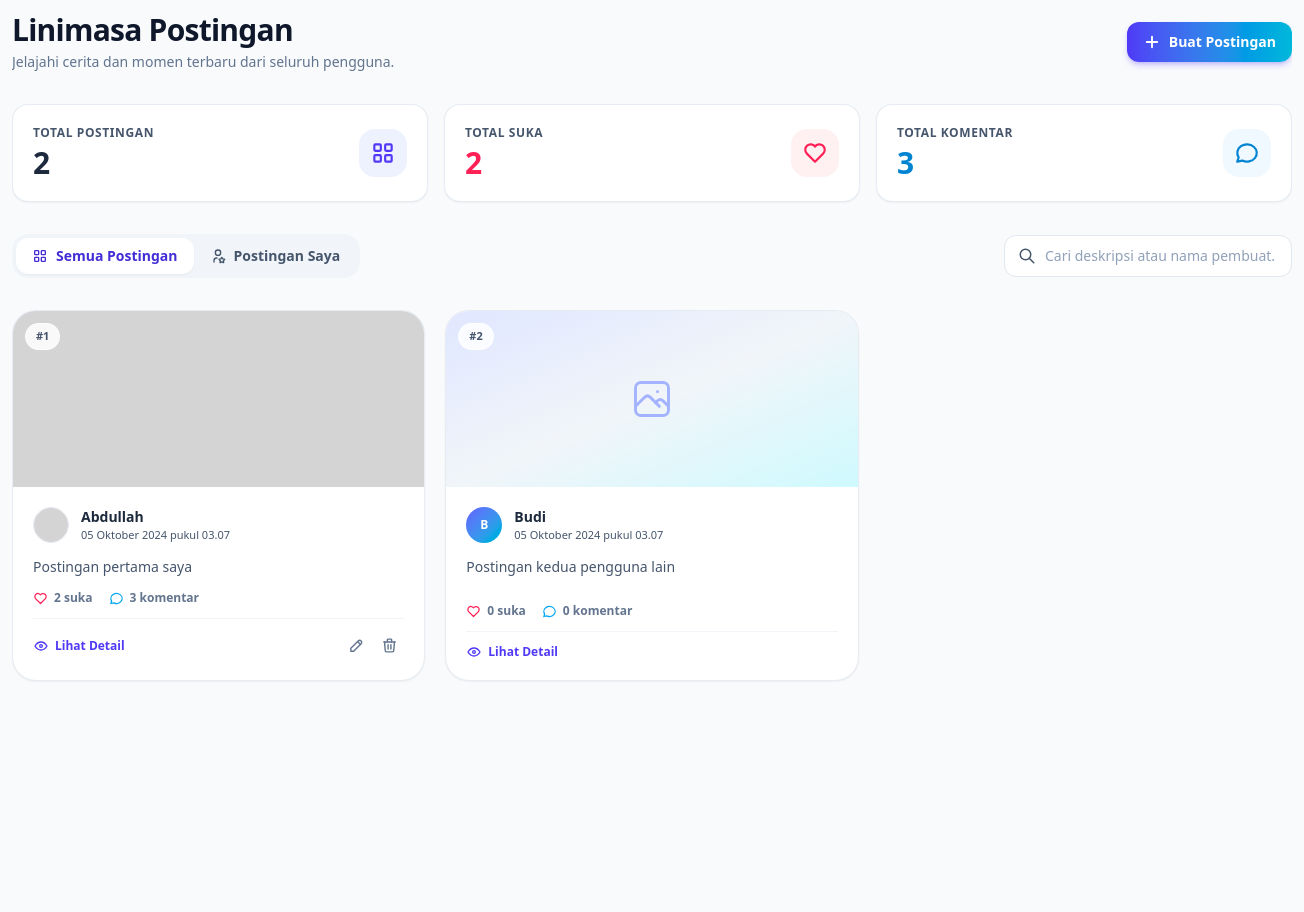
Test: HomePage › should filter posts with live search on description and author
The image size is (1304, 912).
Type "kedua" into the field with test id "search-post-input".
click(1148, 256); type("kedua")  # box top-left (1004, 235), bottom-right (1292, 277)
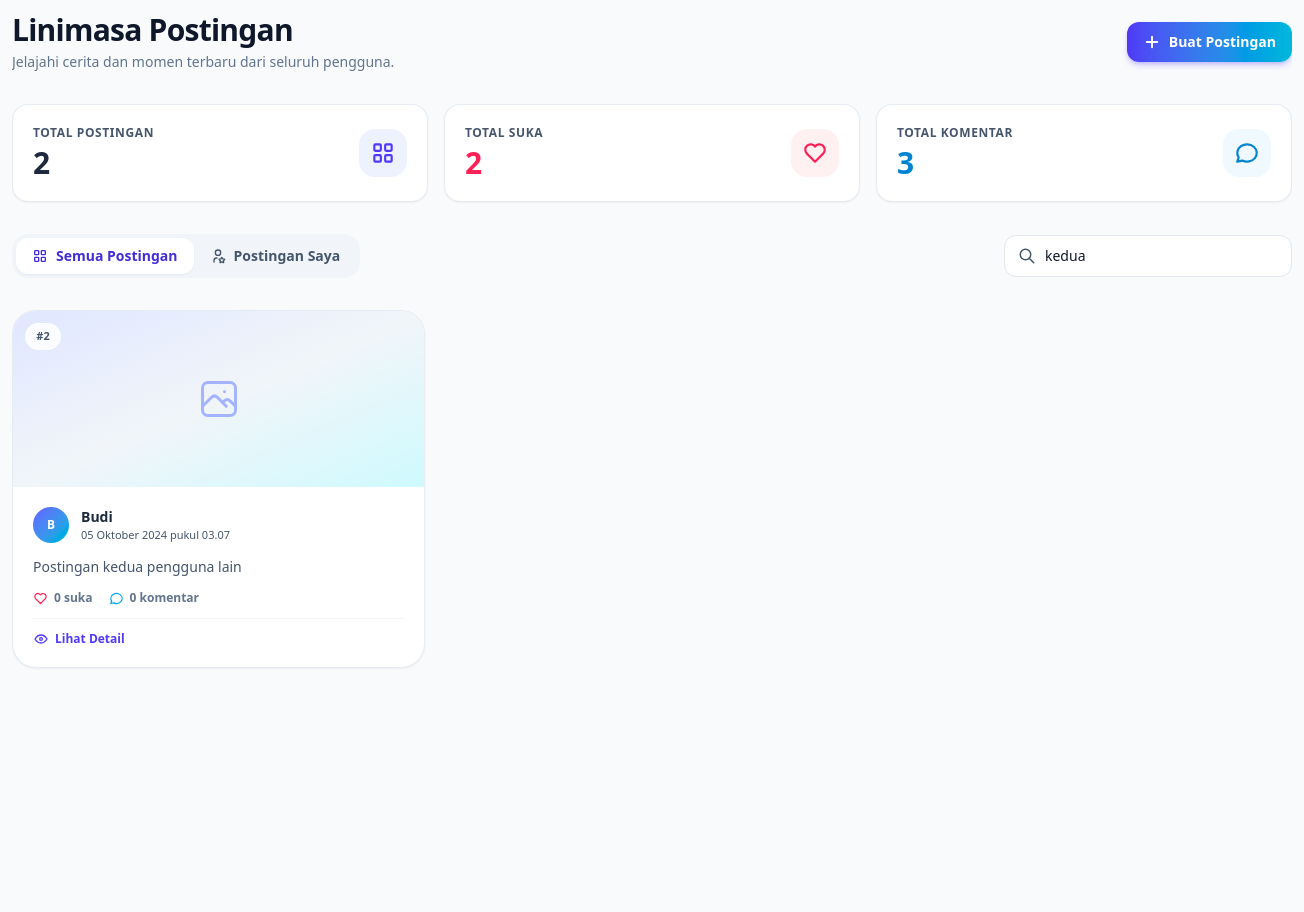
Check: the text "Postingan kedua pengguna lain" is shown, box top-left (33, 556), bottom-right (242, 576)
Check: the text "Postingan pertama saya" is gone
Replace the text in the field with test id "search-post-input" with "abdullah" at (1148, 256), box top-left (1004, 235), bottom-right (1292, 277)
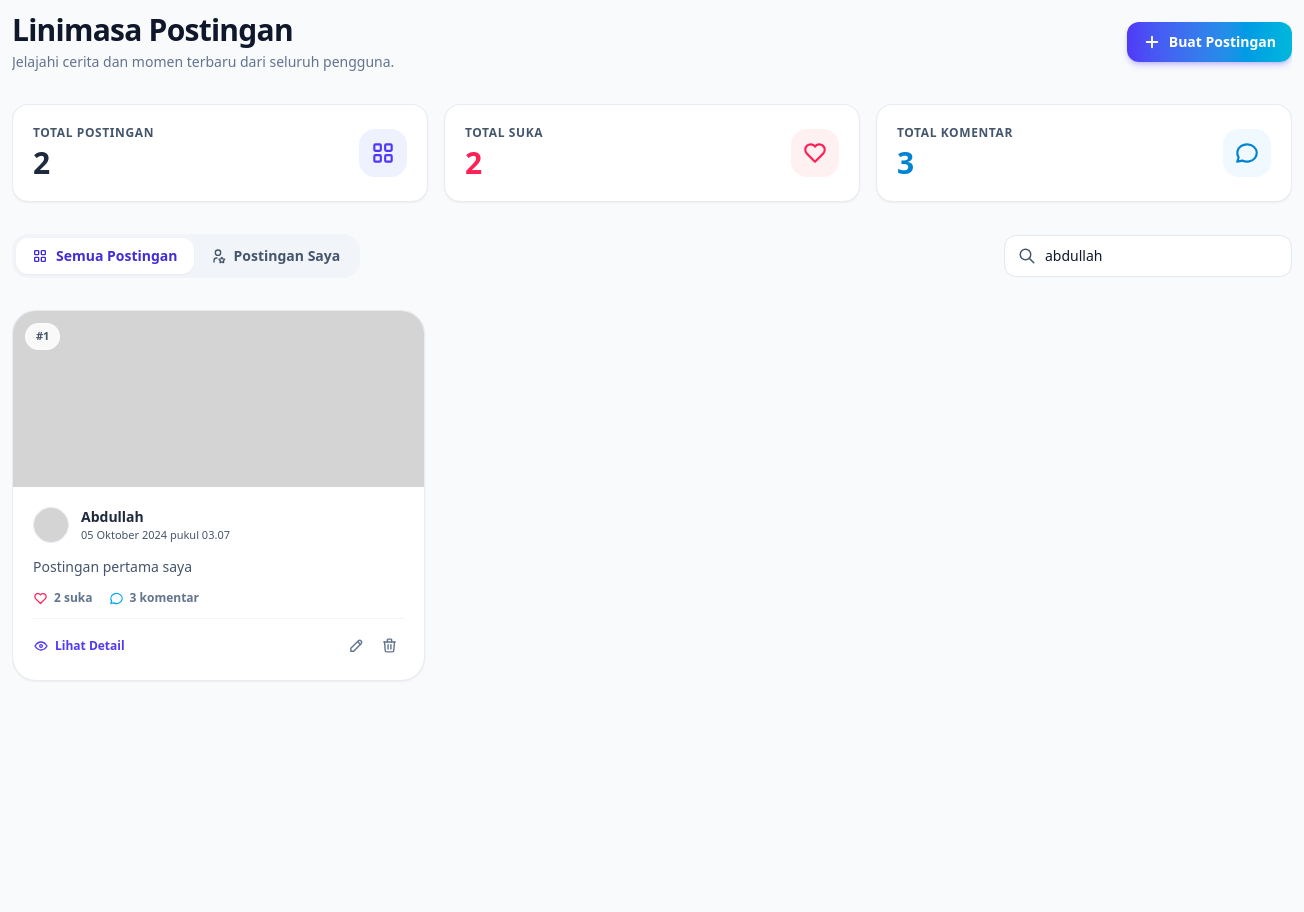
Check: the text "Postingan pertama saya" is shown, box top-left (33, 556), bottom-right (192, 576)
Replace the text in the field with test id "search-post-input" with "tidak-ada-hasil" at (1148, 256), box top-left (1004, 235), bottom-right (1292, 277)
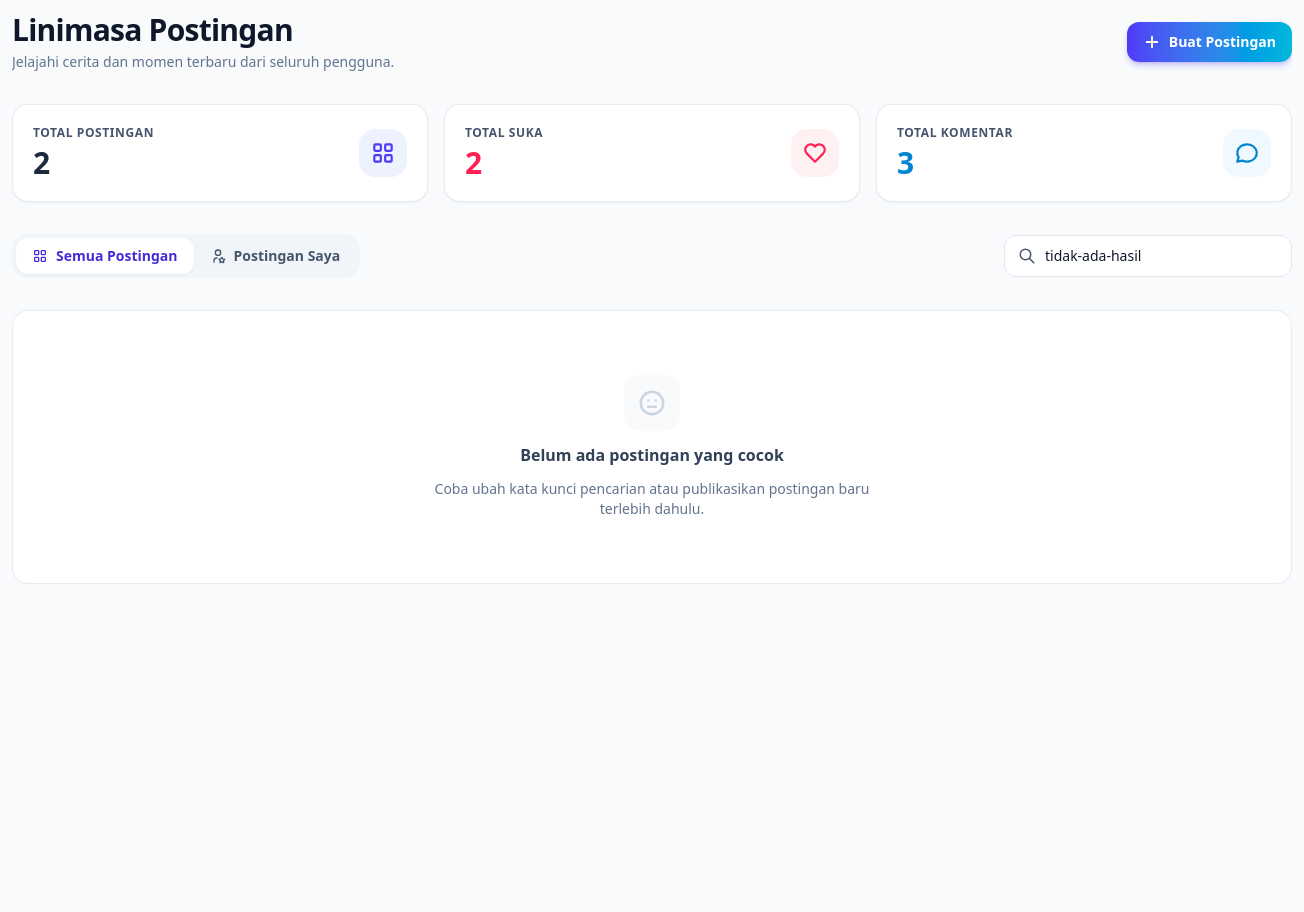
Check: the text "Belum ada postingan yang cocok" is shown, box top-left (520, 443), bottom-right (784, 467)
